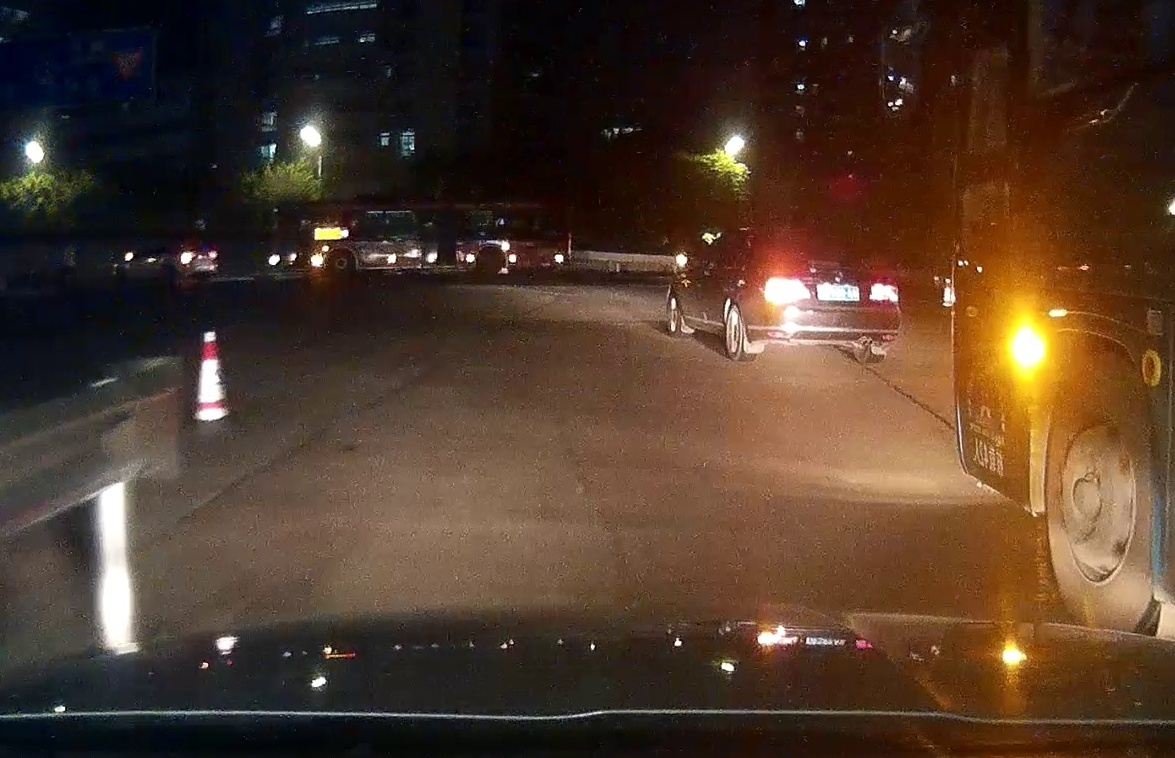L_light: (763, 277, 810, 306)
R_light: (868, 282, 901, 303)
T_light: (825, 238, 849, 243)
night-left: (755, 230, 902, 363)
